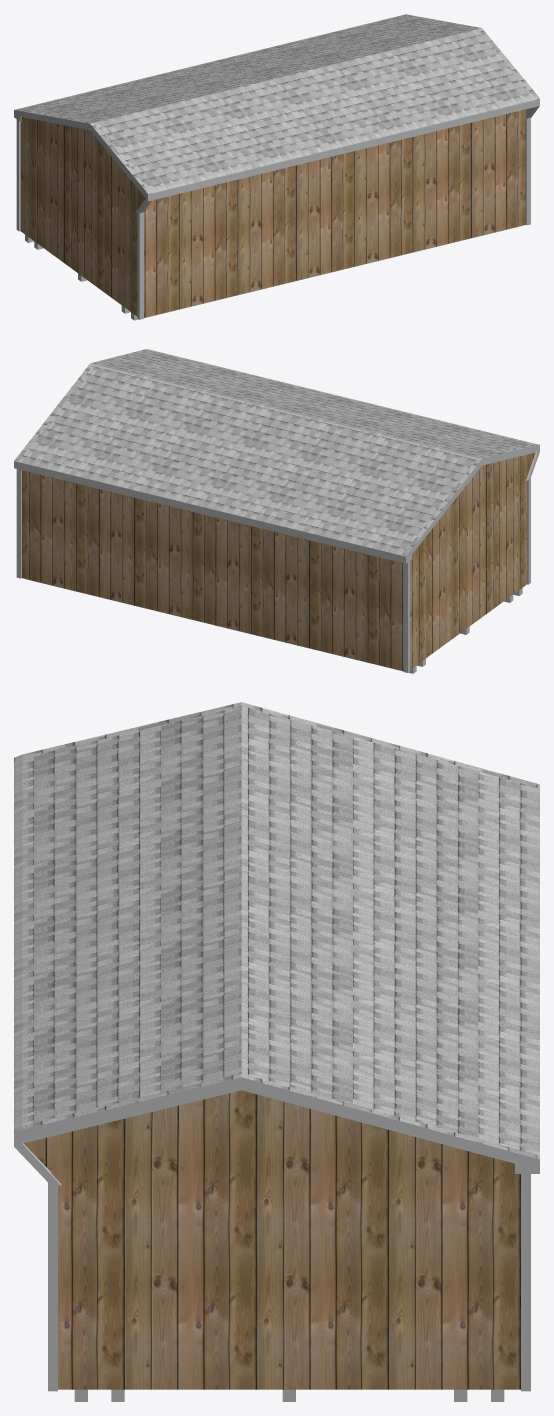
The model's file is Quaker Sheds_12x22.obj.
3 views of the same model, one above another, from view 1: azimuth 30°, elevation 25°; view 2: azimuth 150°, elevation 25°; view 3: azimuth 270°, elevation 25° (orthographic). The views are drawn at different scales.
Parts seen in each view (by area): view 1: Shed, Roof, Sides, Trim, Floor; view 2: Shed, Roof, Sides, Trim, Floor; view 3: Roof, Shed, Sides, Trim, Floor.
Boxes of the visible parts, <box> form: Shed: <box>20,109,526,317</box>; Roof: <box>15,14,539,194</box>; Sides: <box>14,99,539,214</box>; Trim: <box>16,118,530,319</box>; Floor: <box>25,225,522,320</box>; Shed: <box>22,452,535,670</box>; Roof: <box>14,349,539,556</box>; Sides: <box>14,444,539,563</box>; Trim: <box>16,469,530,672</box>; Floor: <box>25,579,522,673</box>; Roof: <box>14,702,539,1159</box>; Shed: <box>24,1090,520,1389</box>; Sides: <box>14,1077,539,1185</box>; Trim: <box>48,1174,530,1391</box>; Floor: <box>74,1389,504,1401</box>.
Size of the model in its own units: 6.77 by 2.74 by 4.01.
